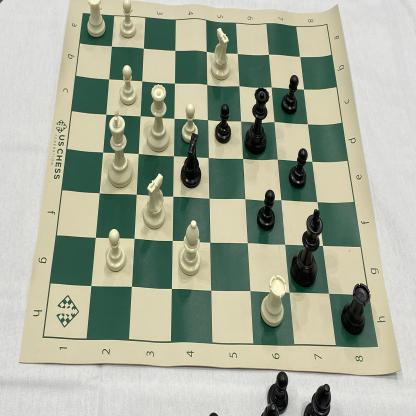black-king: (291, 208, 325, 292)
black-knight: (179, 132, 203, 188)
black-pawn: (255, 188, 277, 232), (287, 147, 309, 190), (212, 102, 233, 145), (281, 73, 300, 116)
black-queen: (244, 88, 270, 157)
black-rook: (339, 281, 370, 337)
white-bishop: (177, 219, 202, 278)
white-king: (104, 108, 134, 189)
white-knight: (142, 171, 168, 230)
white-pawn: (104, 227, 127, 274), (118, 63, 138, 106), (118, 0, 138, 41), (180, 102, 199, 144)
white-queen: (144, 81, 171, 154)
white-rook: (259, 270, 288, 331), (84, 0, 108, 40)
